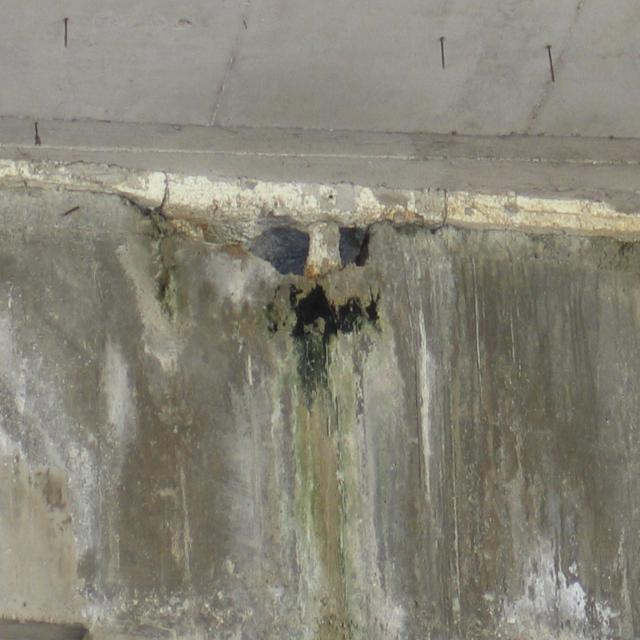corrosion: (293, 401, 362, 608), (169, 204, 251, 277), (371, 204, 424, 233), (300, 258, 348, 284), (543, 41, 561, 91), (435, 32, 454, 72), (29, 119, 47, 152), (59, 12, 69, 58)
